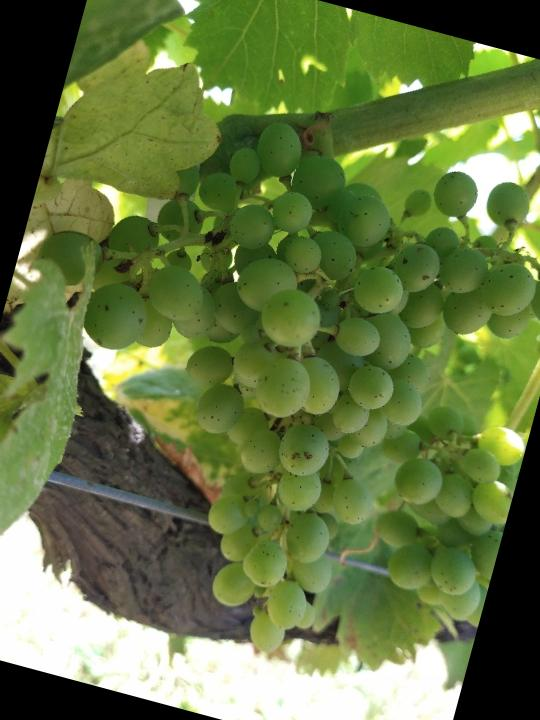grape: (0, 65, 540, 708)
